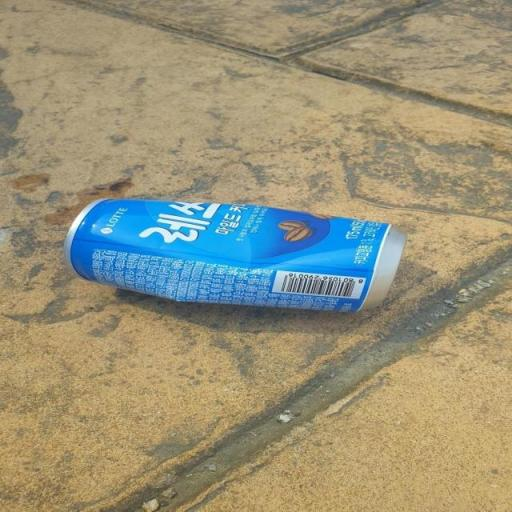metal: (42, 173, 505, 344)
